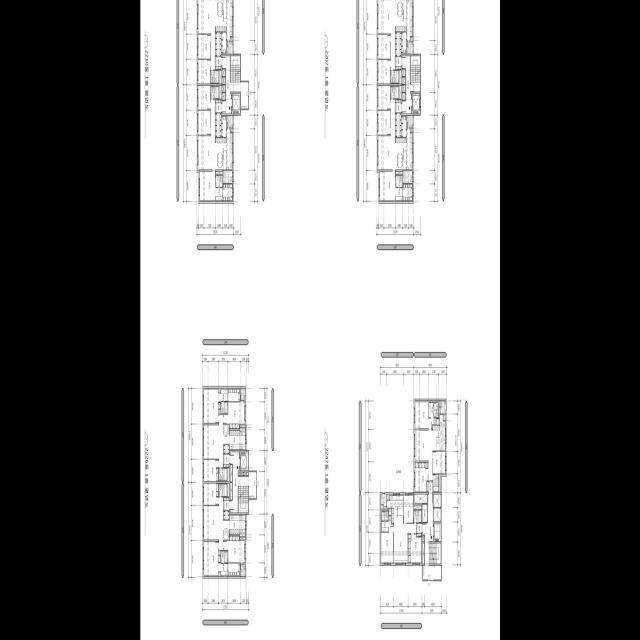background: (140, 0, 500, 640)
space_bedroom: (223, 401, 245, 429), (223, 536, 245, 564), (203, 542, 220, 577), (203, 388, 220, 423), (381, 521, 393, 564), (414, 402, 433, 428), (379, 172, 395, 202), (199, 172, 215, 202), (414, 463, 428, 492), (408, 534, 421, 564), (203, 483, 218, 505), (203, 460, 218, 481), (377, 35, 390, 59), (197, 35, 210, 59), (403, 494, 413, 523), (378, 60, 390, 84), (378, 86, 390, 110), (198, 86, 210, 110), (198, 60, 210, 84), (198, 111, 210, 135), (378, 111, 390, 135), (433, 452, 445, 473)
space_dressroom: (403, 184, 413, 202), (223, 184, 233, 202), (228, 388, 239, 401), (228, 563, 239, 576), (218, 388, 227, 402), (218, 563, 227, 577)
space_elevator: (412, 94, 420, 114), (232, 94, 240, 114), (240, 452, 248, 471), (434, 523, 441, 541)
space_elevator_hall: (230, 452, 256, 513), (222, 56, 248, 114), (422, 495, 433, 564), (402, 56, 411, 114)
space_front: (395, 32, 401, 56), (215, 32, 221, 56), (395, 114, 401, 137), (215, 114, 221, 137), (395, 100, 401, 113), (223, 454, 229, 467), (215, 100, 221, 113), (223, 497, 229, 510), (215, 57, 221, 69), (395, 57, 401, 69), (427, 482, 432, 492), (417, 524, 421, 536)
space_kitchen: (395, 128, 413, 170), (215, 128, 233, 170), (215, 0, 233, 41), (395, 0, 413, 41), (223, 425, 245, 450), (223, 515, 245, 540), (387, 494, 403, 524), (432, 415, 445, 451), (221, 32, 226, 53), (221, 116, 226, 137), (401, 32, 406, 53), (401, 116, 406, 137)
space_living_room: (377, 100, 395, 171), (197, 100, 215, 171), (198, 0, 215, 70), (378, 0, 395, 70), (203, 498, 223, 550), (203, 415, 223, 467), (414, 430, 432, 480), (394, 524, 416, 564)
space_other: (423, 566, 441, 580), (223, 171, 233, 183), (403, 171, 413, 183), (414, 494, 427, 503), (433, 508, 441, 521), (433, 495, 441, 508), (422, 504, 427, 522), (439, 401, 445, 414), (381, 494, 386, 508), (223, 511, 229, 520), (223, 445, 229, 454), (422, 543, 424, 564), (230, 483, 232, 500), (230, 465, 232, 482), (227, 468, 229, 482), (227, 483, 229, 497), (399, 86, 401, 99), (399, 71, 401, 84), (219, 86, 221, 99), (219, 71, 221, 84), (413, 506, 421, 509), (402, 93, 405, 100), (402, 69, 405, 76), (402, 85, 405, 92), (222, 93, 225, 100), (222, 85, 225, 92), (222, 69, 225, 76), (222, 77, 225, 84), (402, 77, 405, 84), (238, 472, 243, 476), (243, 472, 248, 476), (439, 474, 440, 492), (239, 537, 245, 540), (410, 128, 413, 132), (388, 516, 391, 520), (434, 419, 436, 425), (439, 401, 441, 407), (216, 172, 222, 174), (230, 128, 233, 132), (396, 172, 402, 174), (422, 536, 424, 541), (387, 495, 389, 500), (240, 425, 245, 427), (443, 416, 445, 420), (381, 505, 383, 508), (219, 572, 220, 576), (219, 388, 220, 392), (219, 551, 220, 555), (219, 410, 220, 414)
space_outdoor_room: (227, 42, 233, 54), (407, 42, 413, 54), (227, 116, 233, 127), (407, 116, 413, 127), (240, 565, 245, 577), (240, 388, 245, 400)
space_staircase: (411, 56, 420, 92), (238, 486, 248, 513), (429, 543, 441, 564), (231, 56, 240, 82)
space_toilet: (381, 511, 388, 532), (429, 403, 438, 417), (390, 86, 398, 99), (219, 468, 227, 481), (219, 484, 227, 497), (210, 86, 218, 99), (210, 71, 218, 83), (390, 71, 398, 83), (414, 510, 421, 523), (433, 474, 438, 492), (396, 188, 402, 202), (216, 188, 222, 202), (221, 402, 224, 414), (224, 402, 227, 414), (224, 551, 227, 563), (221, 551, 224, 563), (396, 176, 399, 187), (399, 176, 402, 187), (219, 176, 222, 187), (216, 176, 219, 187)
